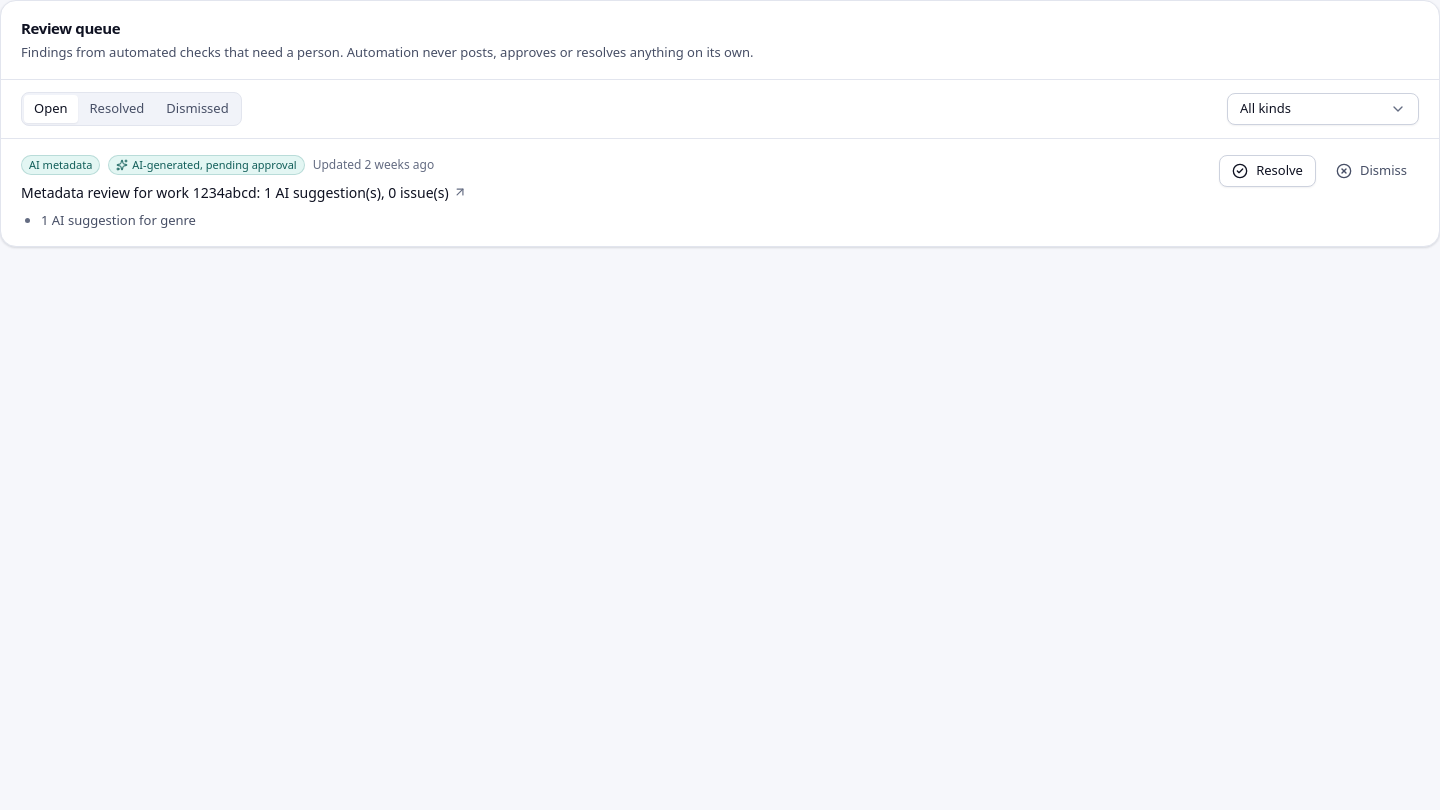
Test: ReviewQueue › lets managers resolve with a note
Click the button "Resolve" at (1268, 171), box x1=1219 y1=155 x2=1316 y2=187
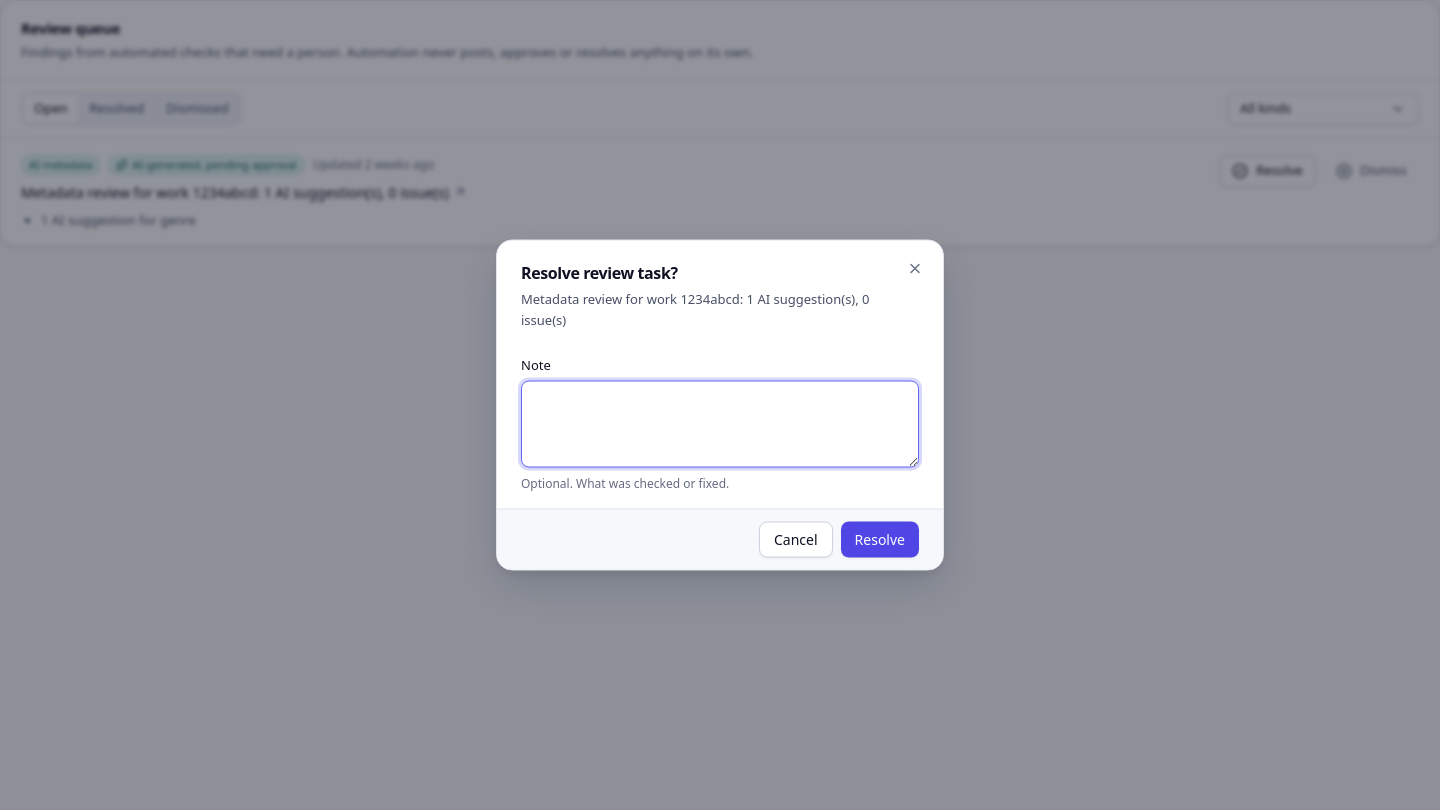
Type "Approved the genre change" into the text box labelled "Note" at (720, 424), box x1=521 y1=381 x2=919 y2=467
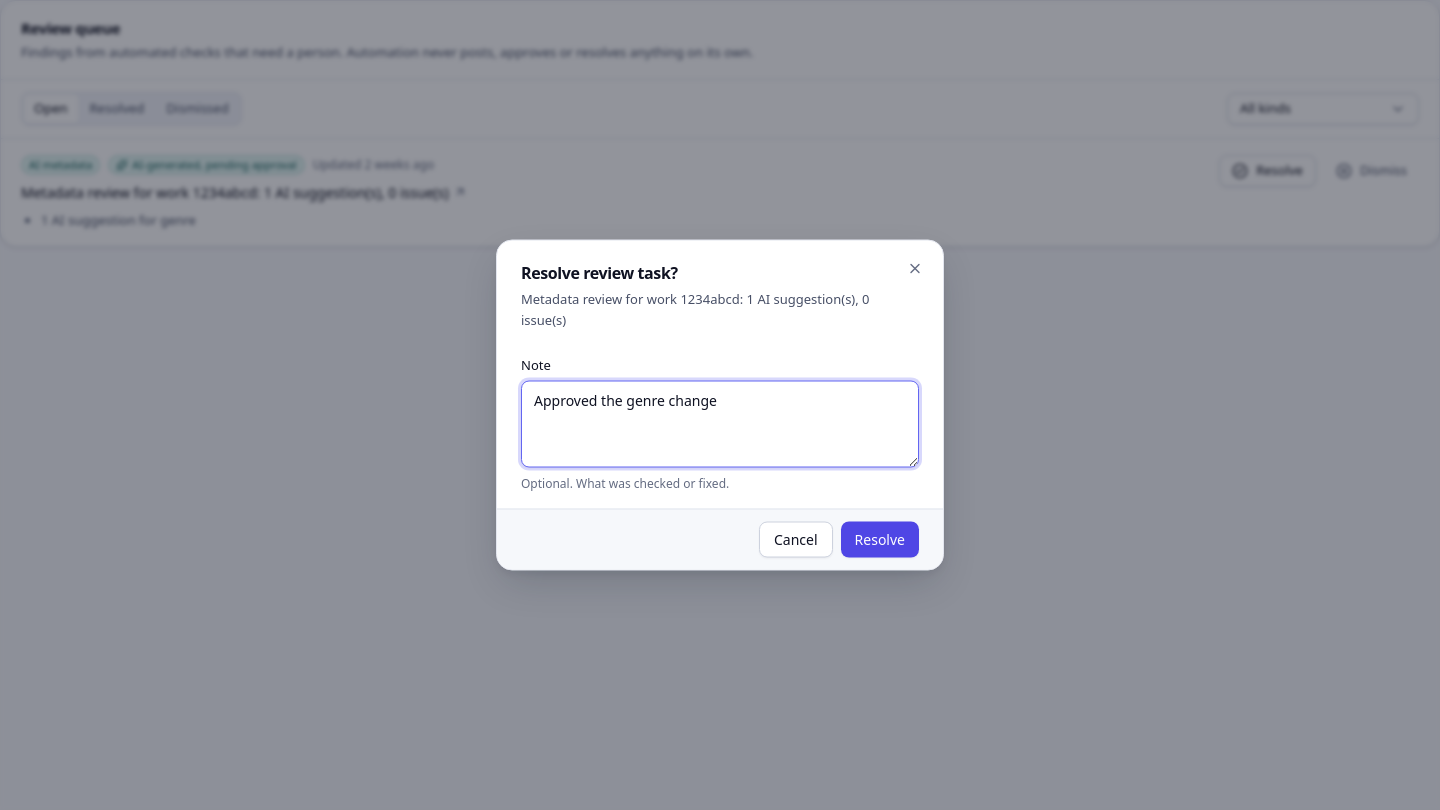
Click the button "Resolve" at (880, 540), box x1=841 y1=522 x2=919 y2=558
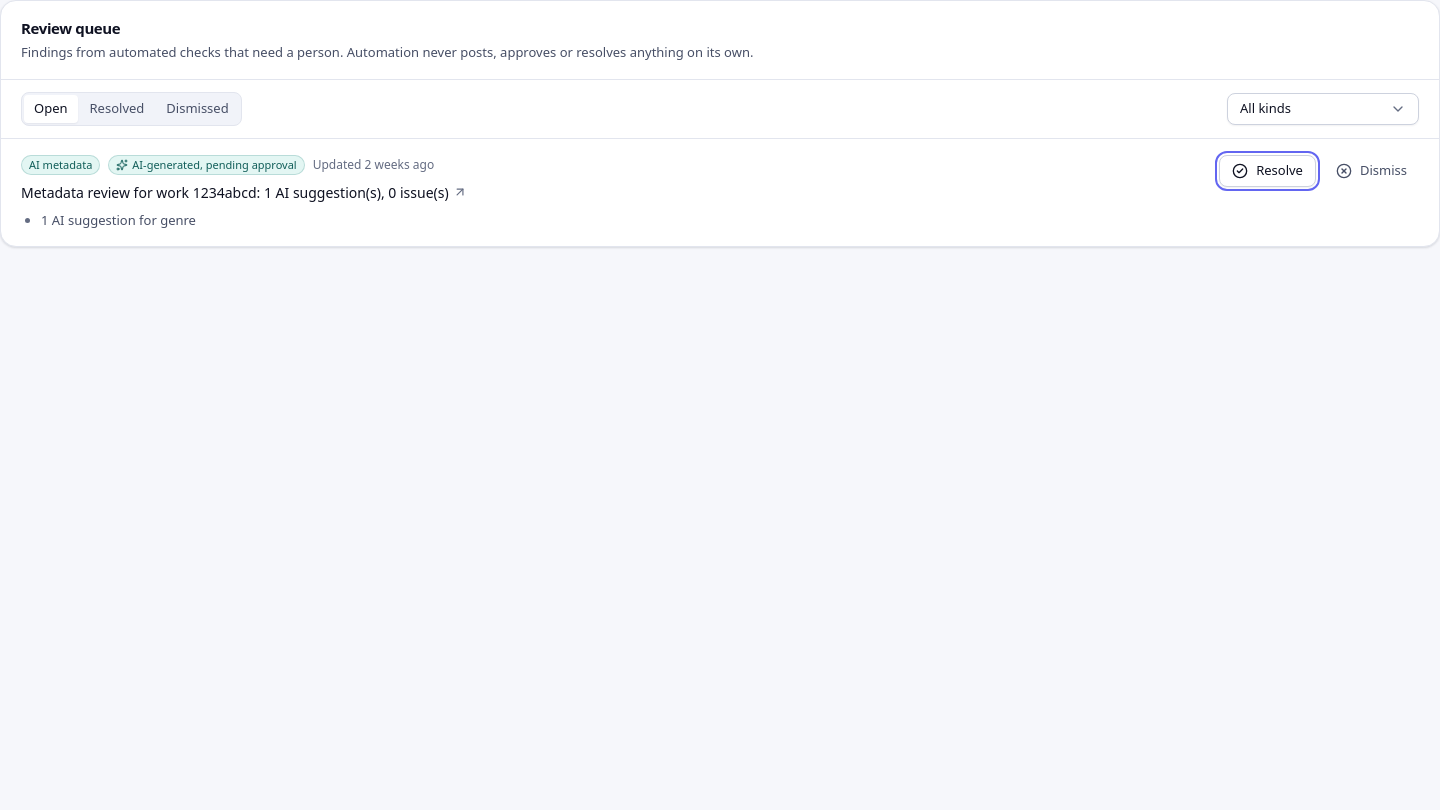
Check: the dialog is gone
